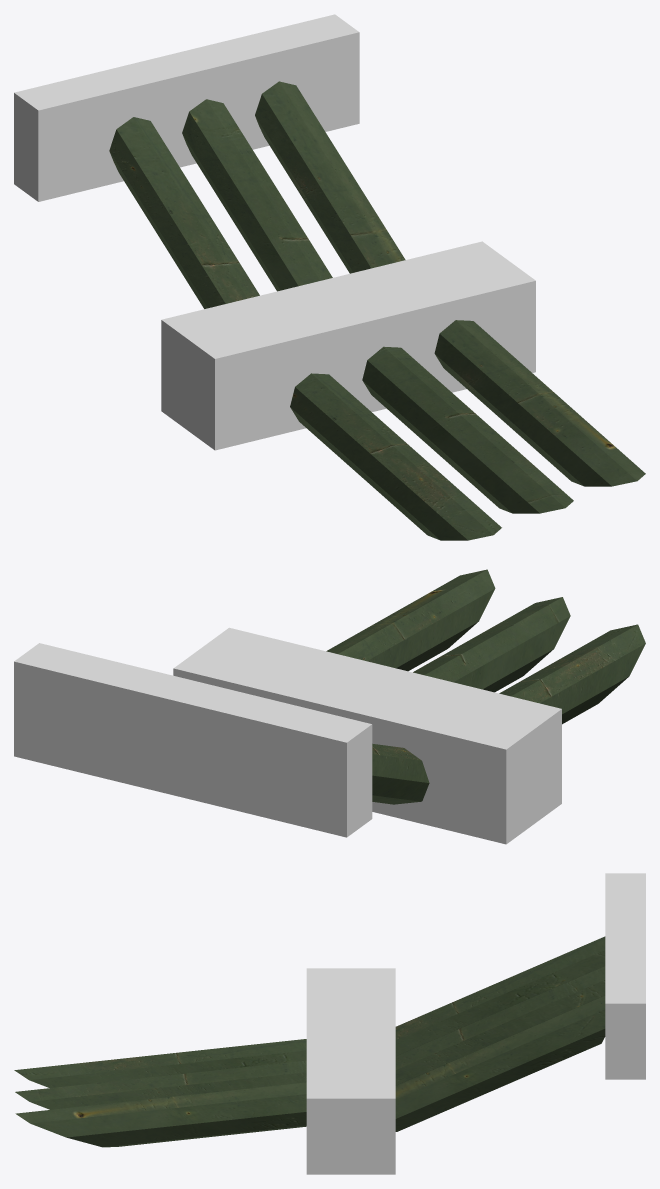
File: USACE-3D-22-002-dam.gltf
3 views of the same model, one above another, from view 1: azimuth 30°, elevation 25°; view 2: azimuth 150°, elevation 25°; view 3: azimuth 270°, elevation 25° (orthographic). The views are drawn at different scales.
Parts seen in each view (by area): view 1: Cube.001, penstocks.001, penstocks, Cube; view 2: Cube, Cube.001, penstocks.001, penstocks; view 3: penstocks.001, penstocks, Cube.001, Cube.
Part boxes in pixels (x1,y1,x2,y2): Cube.001: (161, 241, 535, 450); penstocks.001: (290, 320, 645, 540); penstocks: (109, 81, 405, 308); Cube: (14, 14, 359, 201); Cube: (14, 643, 372, 837); Cube.001: (173, 627, 561, 844); penstocks.001: (326, 569, 645, 724); penstocks: (372, 743, 429, 804); penstocks.001: (14, 1039, 306, 1147); penstocks: (395, 936, 605, 1131); Cube.001: (306, 968, 395, 1174); Cube: (605, 873, 645, 1079).
Size of the model in its own units: 13.04 by 8.72 by 26.49.
1 material, 1 textured.
